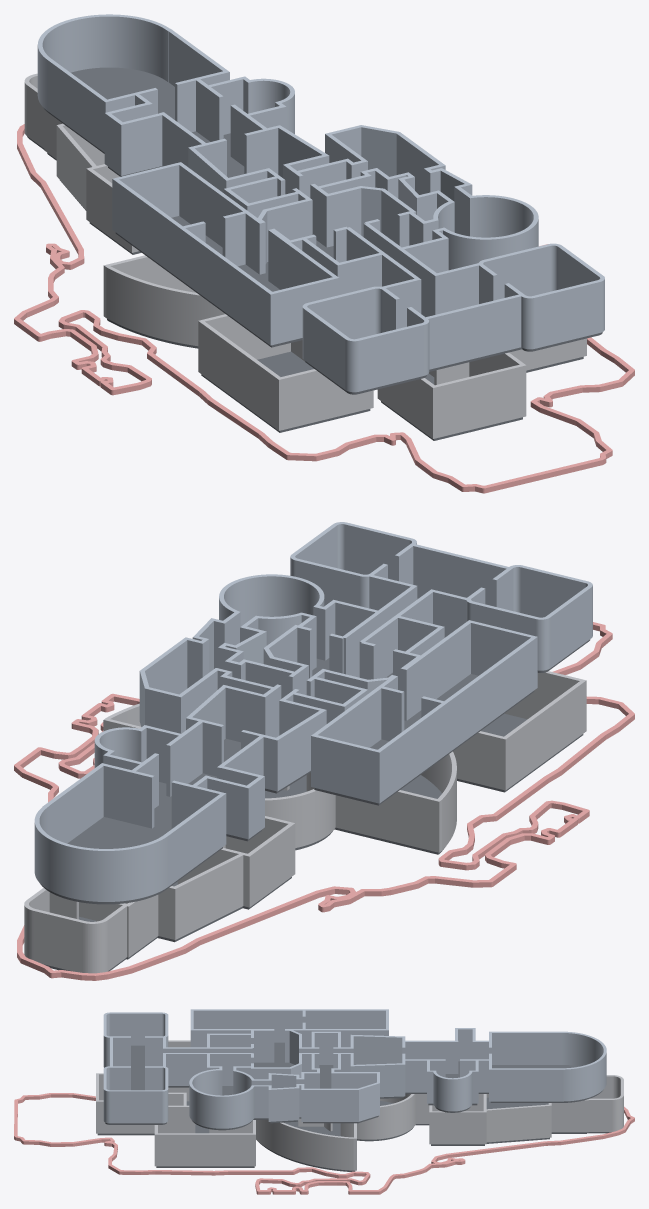
Rendered from kasparov_graybox_WIP_NOT_APPROVED.glb.
The picture shows the model from 3 angles, top to bottom: view 1: azimuth 30°, elevation 25°; view 2: azimuth 150°, elevation 25°; view 3: azimuth 270°, elevation 25°; orthographic projection. The views are drawn at different scales.
Visible parts, largest first — view 1: upper_walls, lower_walls, hull_outline, upper_floor, lower_floor; view 2: upper_walls, lower_walls, hull_outline, upper_floor, lower_floor; view 3: upper_walls, lower_walls, hull_outline, upper_floor, lower_floor.
Boxes of the visible parts, left/top/right/bottom form: upper_walls: left=37, top=14, right=604, bottom=392; lower_walls: left=24, top=73, right=586, bottom=438; hull_outline: left=14, top=124, right=634, bottom=493; upper_floor: left=43, top=67, right=602, bottom=394; lower_floor: left=27, top=136, right=583, bottom=440; upper_walls: left=34, top=522, right=592, bottom=901; lower_walls: left=24, top=671, right=586, bottom=973; hull_outline: left=14, top=622, right=634, bottom=980; upper_floor: left=40, top=598, right=590, bottom=904; lower_floor: left=44, top=713, right=583, bottom=971; upper_walls: left=103, top=1009, right=606, bottom=1128; lower_walls: left=96, top=1040, right=623, bottom=1170; hull_outline: left=14, top=1093, right=634, bottom=1194; upper_floor: left=105, top=1042, right=602, bottom=1130; lower_floor: left=97, top=1097, right=611, bottom=1171.
Bounding box in the file's own units: 29.46 × 6.7 × 52.82.
